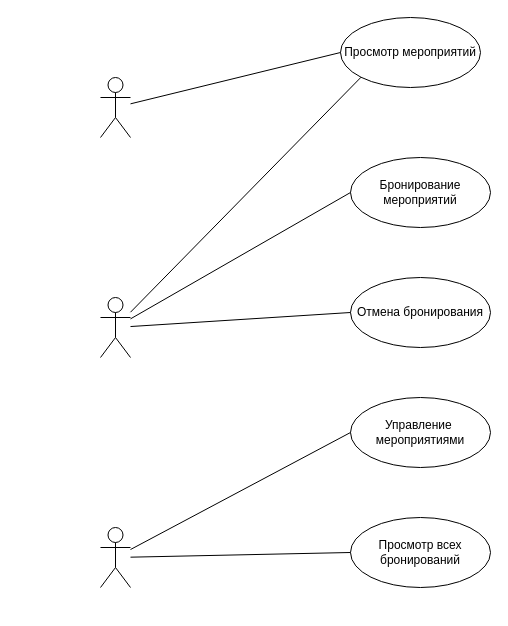
Image size: 508x626. Some labels were removed from this diagram. The box of each missing label's shape, as (x1, y1, x2, y2) in pixels:
АДминистратор: (100, 526, 130, 588)
Гость: (100, 76, 130, 138)
Зарегестрированный пользователь: (100, 296, 130, 358)
